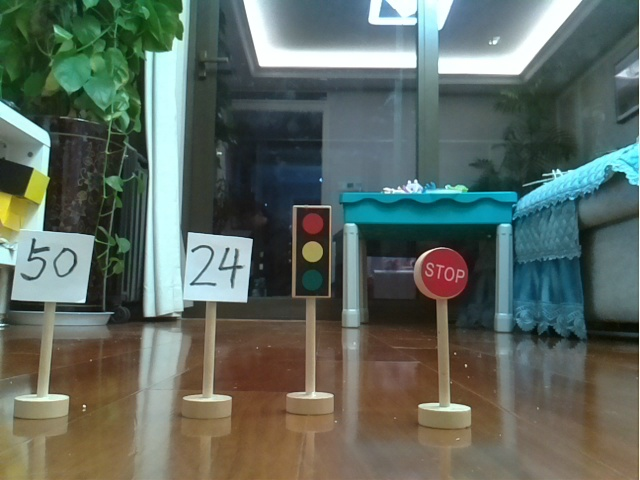Red Traffic Light: (284, 197, 341, 422)
Speed Limit 24: (178, 225, 257, 425)
Speed Limit 50: (9, 227, 96, 421)
Stop Sign: (408, 240, 484, 440)
